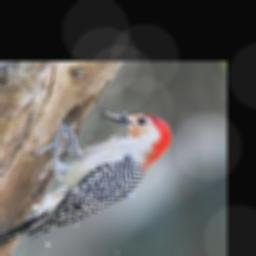Woodpecker: (0, 109, 171, 255)
